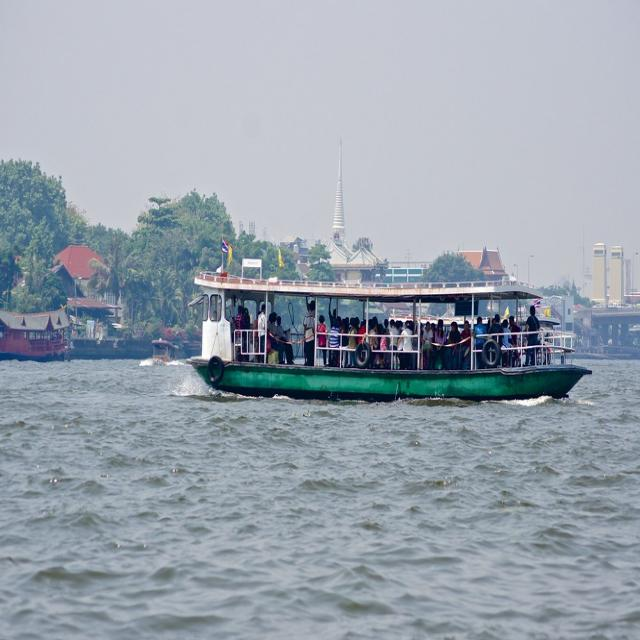houseboat: (192, 247, 586, 412)
